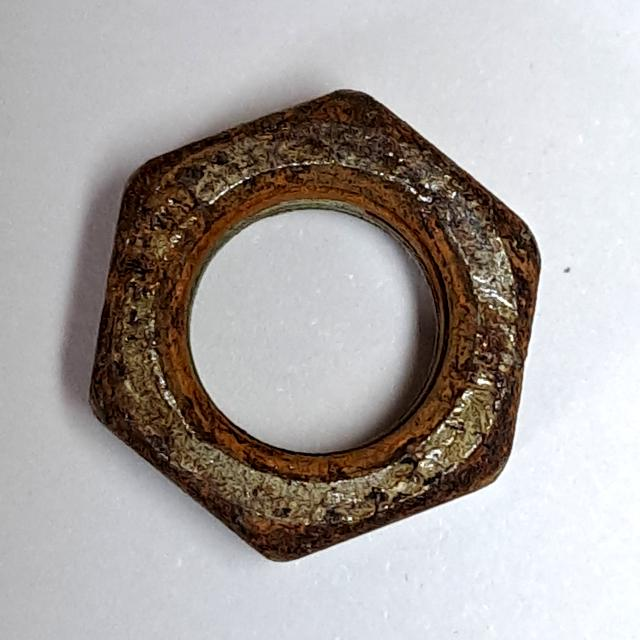Rust: (76, 79, 558, 578)
